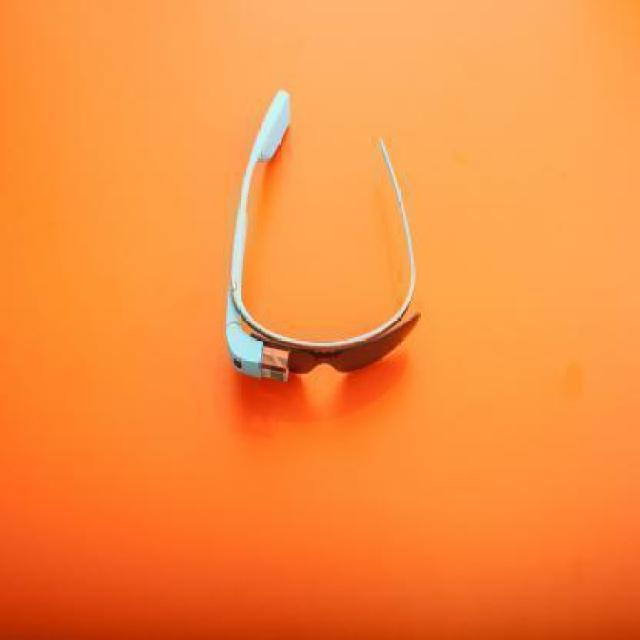glasses: (228, 84, 422, 373)
